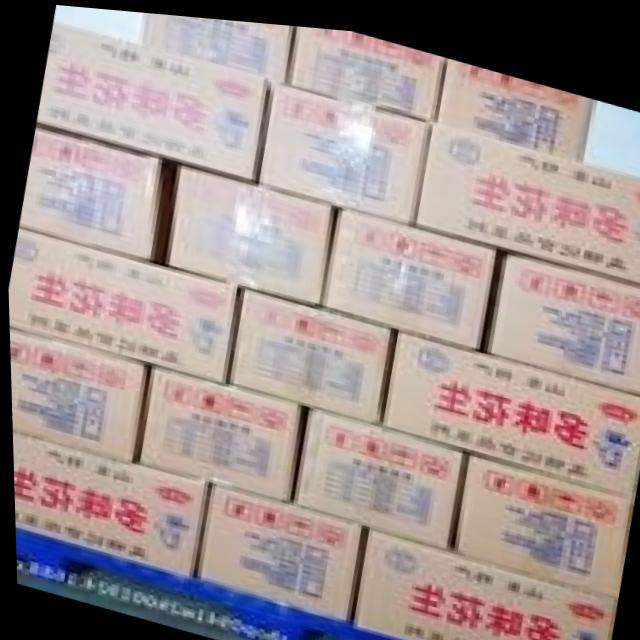box: (380, 325, 640, 485), (411, 114, 640, 275), (36, 20, 271, 175), (7, 228, 236, 380), (354, 523, 615, 640), (10, 432, 206, 574), (450, 447, 632, 589), (321, 201, 495, 341), (290, 402, 461, 541), (258, 78, 428, 217), (167, 161, 334, 298), (193, 479, 358, 615), (137, 363, 303, 497), (485, 245, 640, 383), (231, 288, 389, 414), (18, 127, 158, 257), (8, 329, 142, 461), (437, 49, 593, 149), (287, 21, 444, 117), (141, 10, 293, 80)
